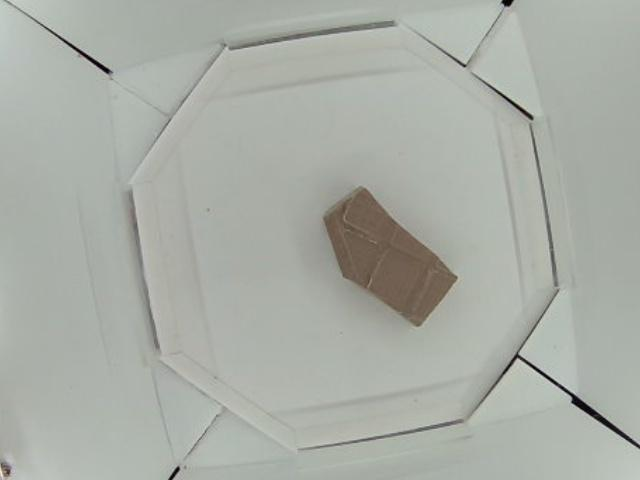China: (324, 189, 459, 329)
